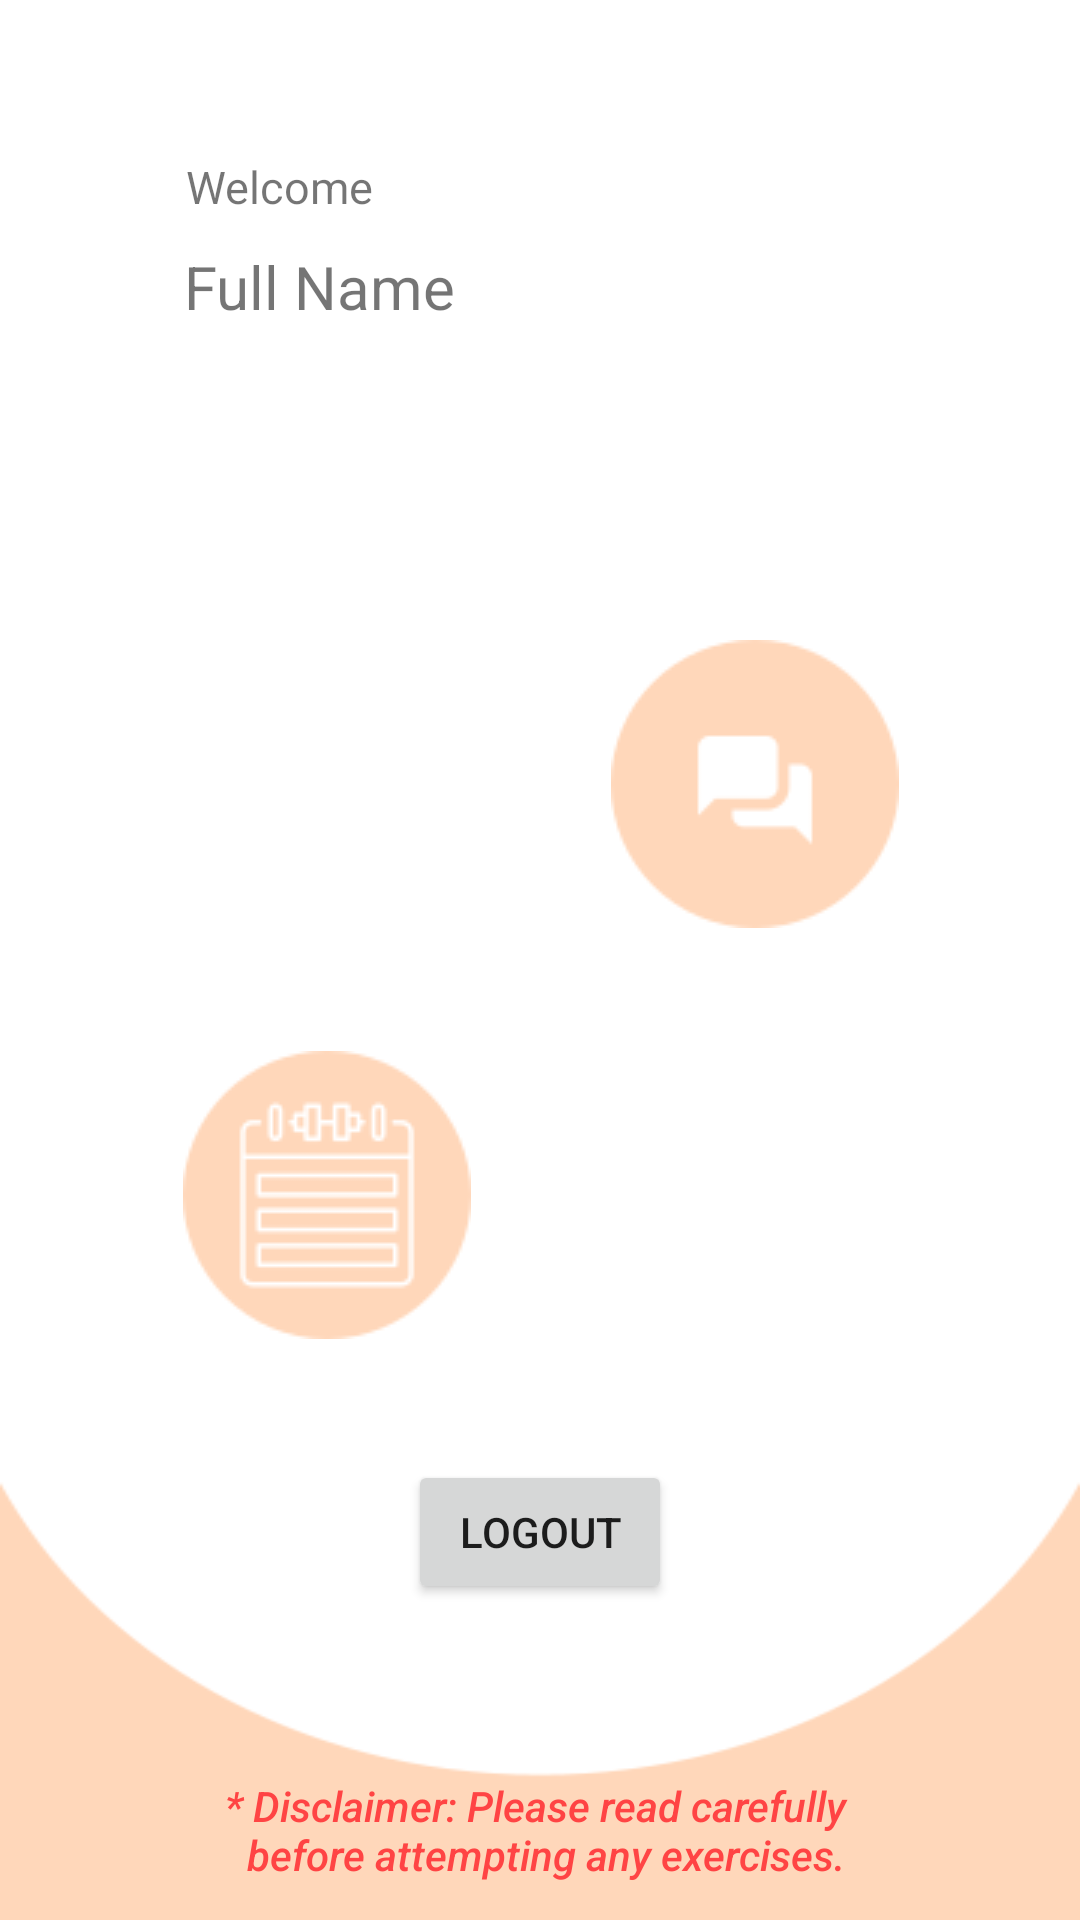

Locate icon controls on the screen. Image size 1080px×1920px, boxes as (x1, y1, x2, y2).
challengesicon: (183, 1051, 471, 1339)
chaticon: (611, 640, 899, 928)
